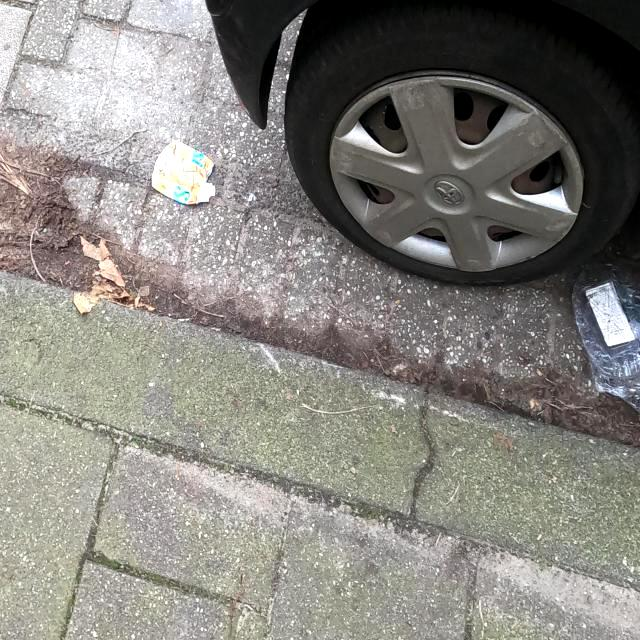Metal: (150, 138, 216, 206)
Plastic: (570, 260, 640, 414)
